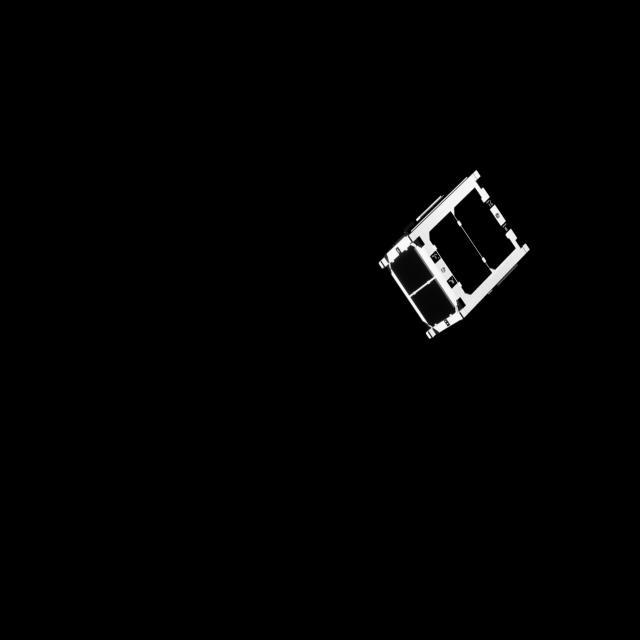medium_debris: (375, 164, 526, 345)
